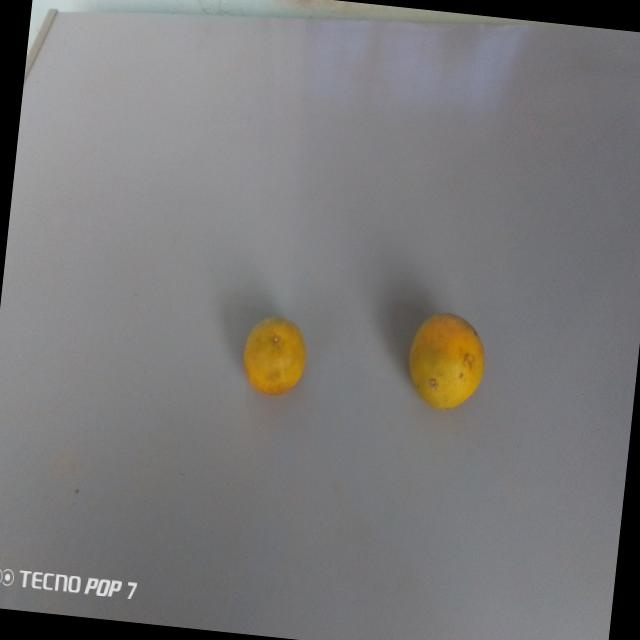agrume: (386, 303, 498, 421), (231, 302, 313, 403)
